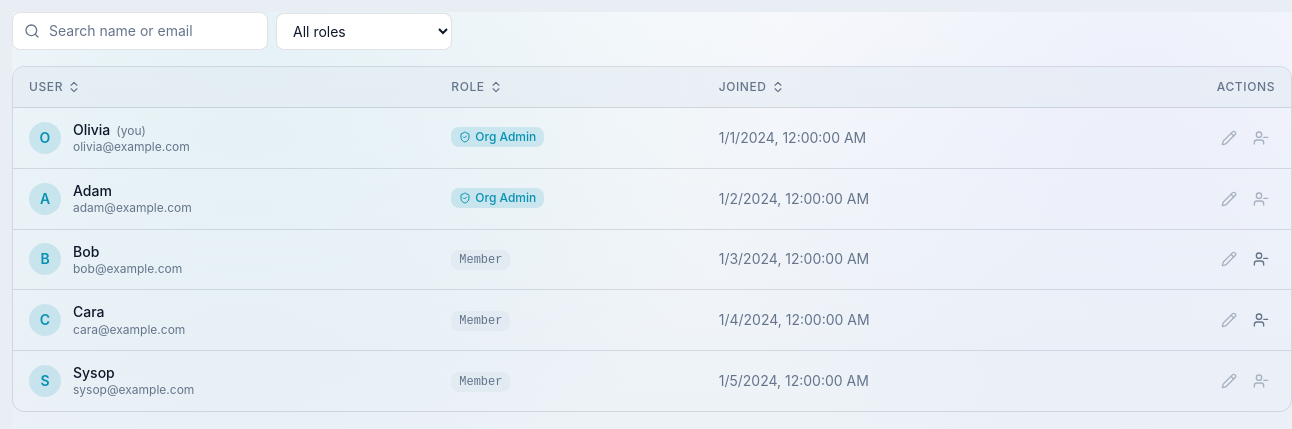
it: MembersTable filtering › filters by role and can clear filters from the empty state
Select "Org Admin" in the dropdown named "Filter by role" at (364, 31), box [276, 12, 452, 50]
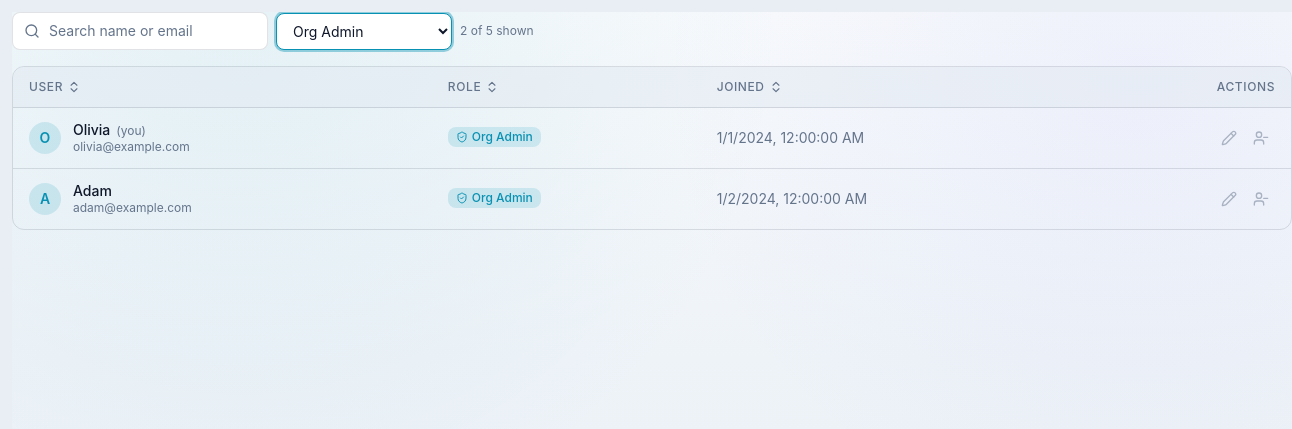
Expected: the text "Adam" is shown, [73, 182, 112, 199]
Expected: the text "Bob" is gone
Type "zzz" into the search field named "Search members" at (140, 31), box [12, 12, 268, 50]
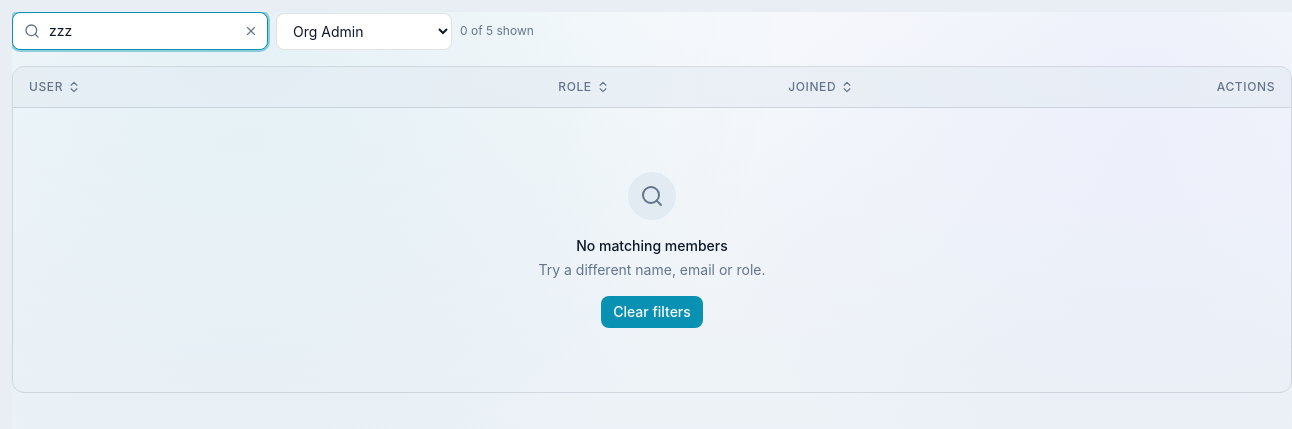
Expected: the heading "No matching members" is shown, [576, 237, 728, 254]
Click the button "Clear filters" at (652, 312), box [601, 296, 703, 328]
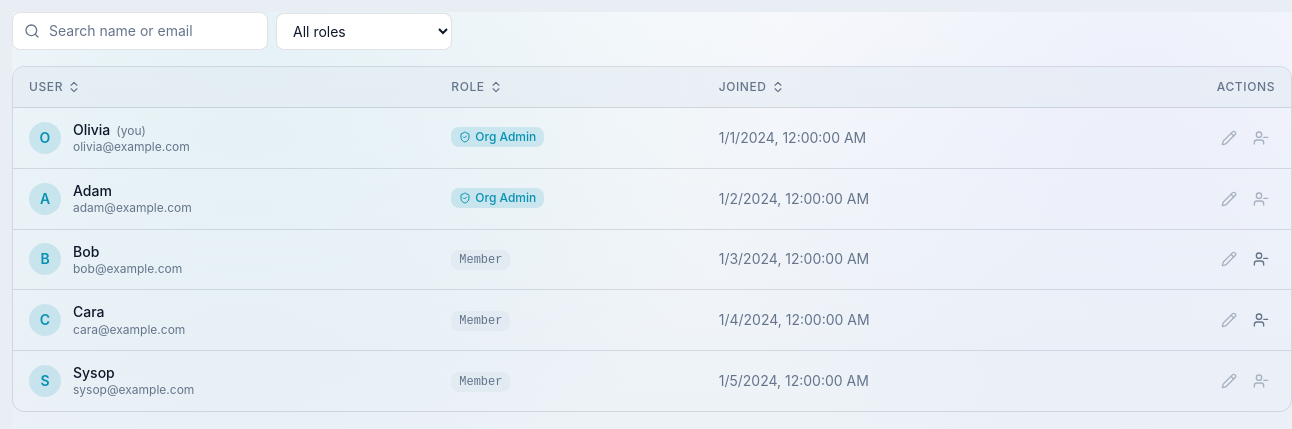
Expected: the text "Cara" is shown, [73, 303, 104, 320]
